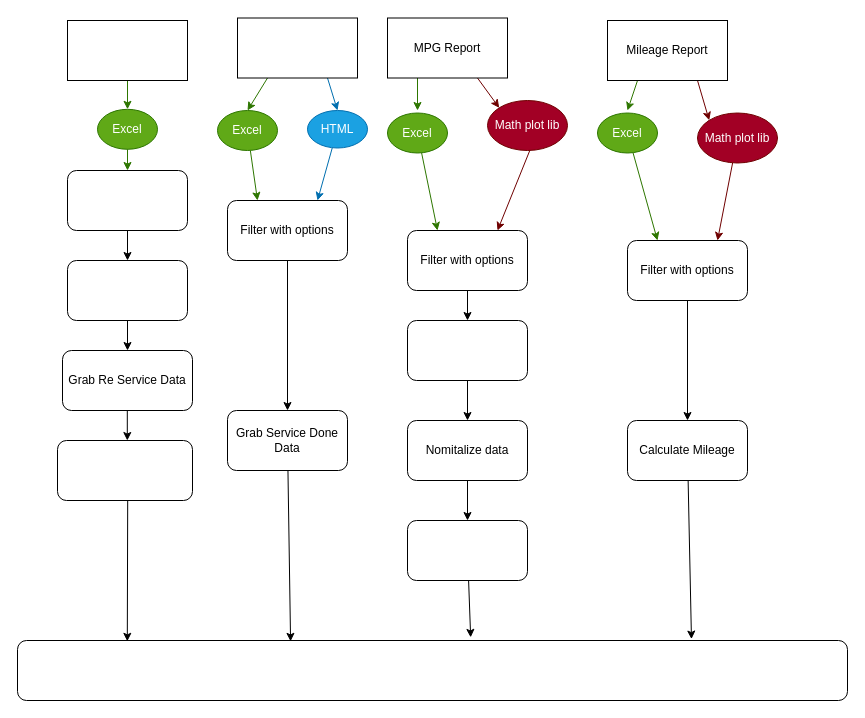
The diagram is 865 pixels wide and 718 high, and some of its shapes have lost their labels. The shapes that lost their labels are listed below. From the top down, each one's box as (x1, y1, x2, y2) in pixels, then its label:
(66, 20, 188, 80): Due Service List
(236, 17, 358, 78): Services Done
(66, 170, 188, 230): Grab Mileage Data for of last 6 months
(66, 260, 188, 320): Calculate Mileage Per Day
(406, 320, 528, 380): Grab fuel data
(56, 440, 192, 500): Calculate Mileage Until Due
(406, 520, 528, 580): Calculate MPG
(16, 640, 848, 700): Export To Format
